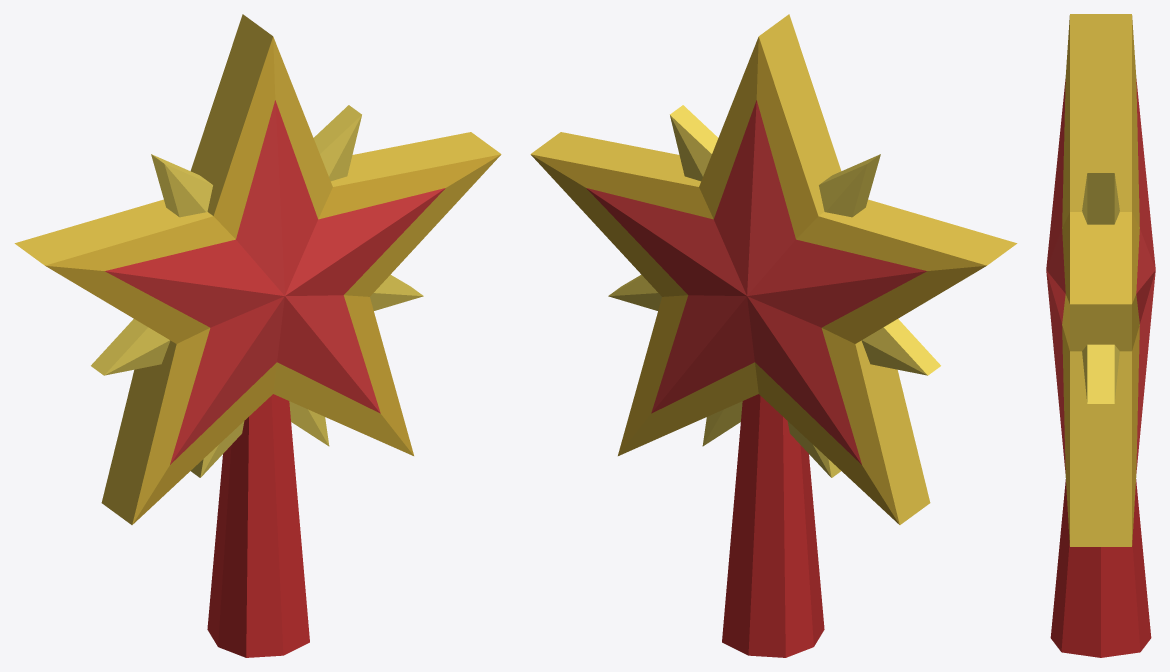
Rendered from Stars2.fbx.
3 views of the same model, side by side, from view 1: azimuth 30°, elevation 25°; view 2: azimuth 150°, elevation 25°; view 3: azimuth 270°, elevation 25° (orthographic).
Parts seen in each view (by area): view 1: Star1; view 2: Star1; view 3: Star1.
Boxes of the visible parts, x1,y1,x2,y2 form: Star1: (14,14,501,657); Star1: (530,14,1017,657); Star1: (1046,14,1155,657).
Size of the model in its own units: 83.77 by 109 by 17.09.
